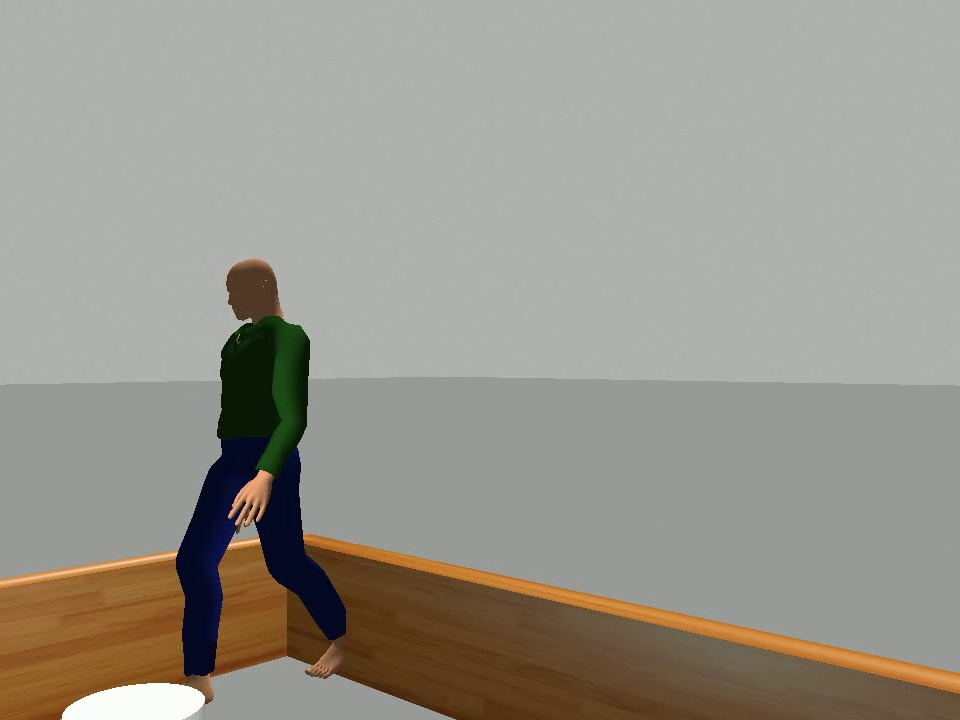person: (172, 256, 351, 704)
